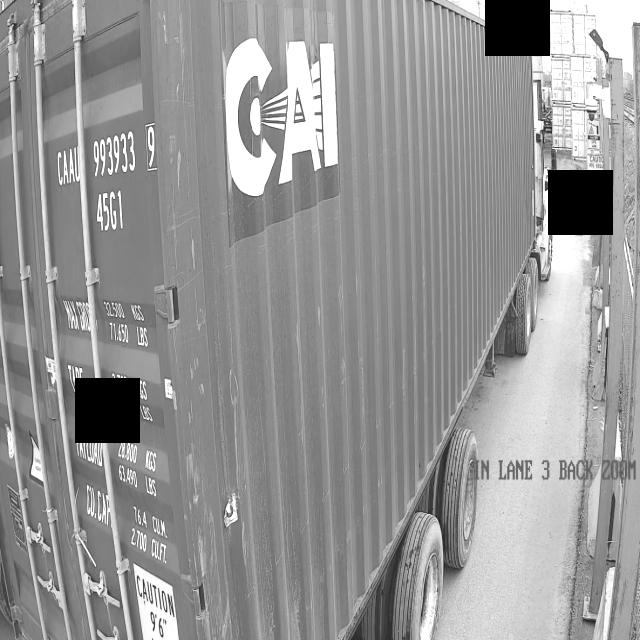container_company_logo: (212, 0, 376, 235)
container_number: (49, 100, 181, 640)
truck_with_container: (0, 0, 556, 640)
